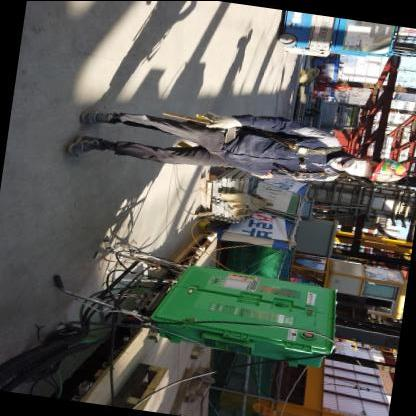safety-shoe: (61, 131, 119, 165), (77, 100, 123, 128)
